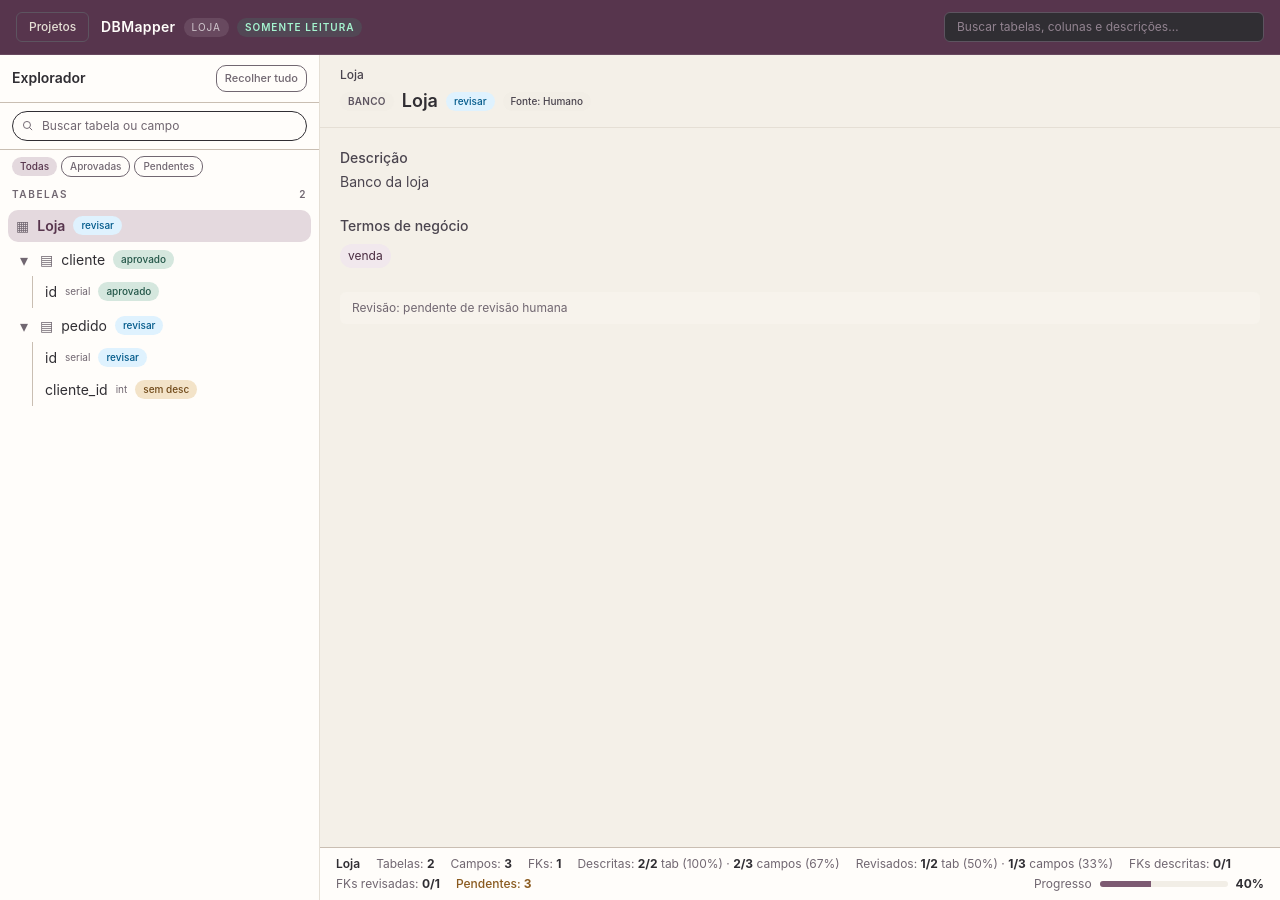
Test: ViewerPage › coluna escrita por MCP mostra a fonte MCP
Click the button with test id "column-row-pedido-cliente_id" at point(174, 390), box [37,374,311,406]
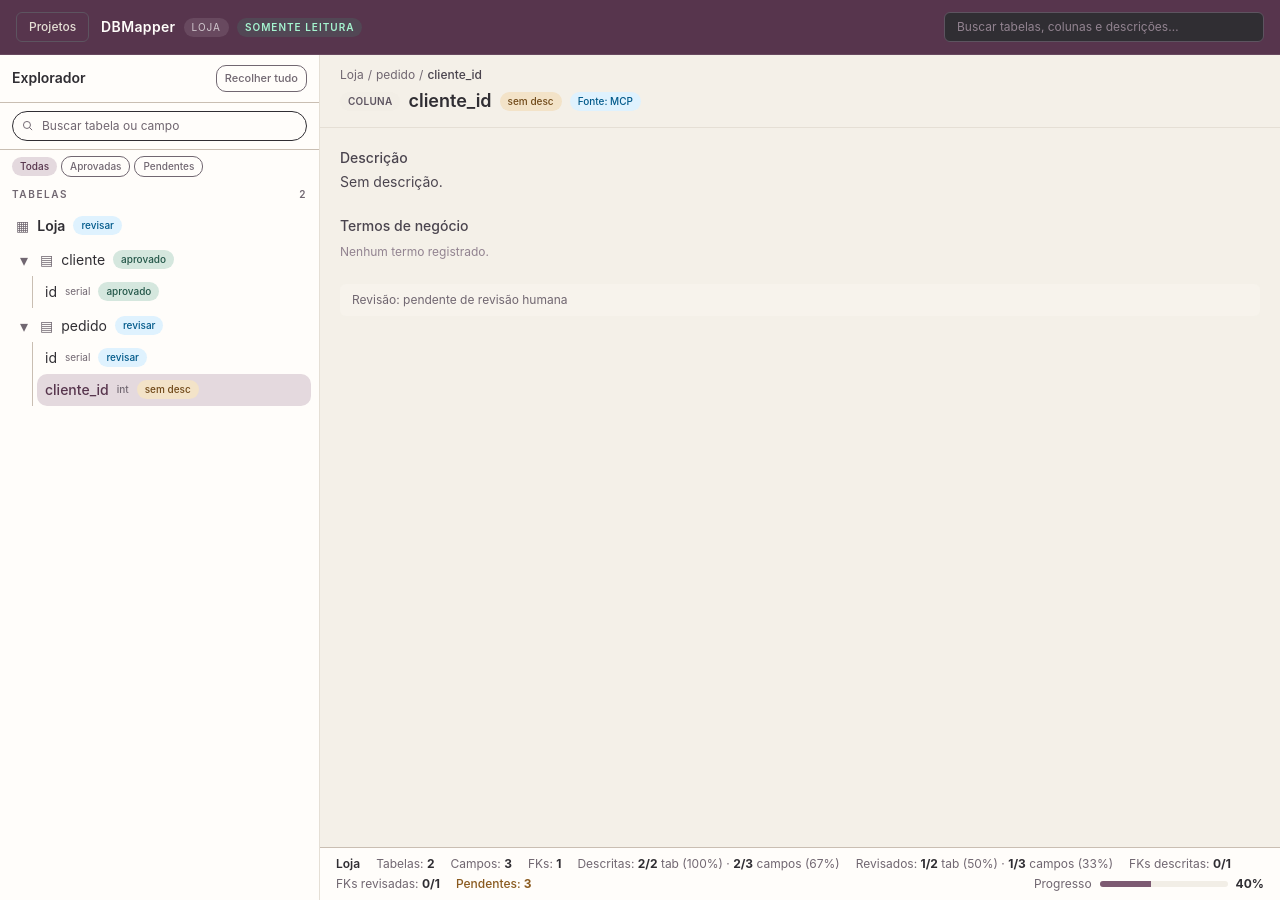
Check: the text with test id "viewer-source-badge" shows "MCP", box [610,94,633,106]
